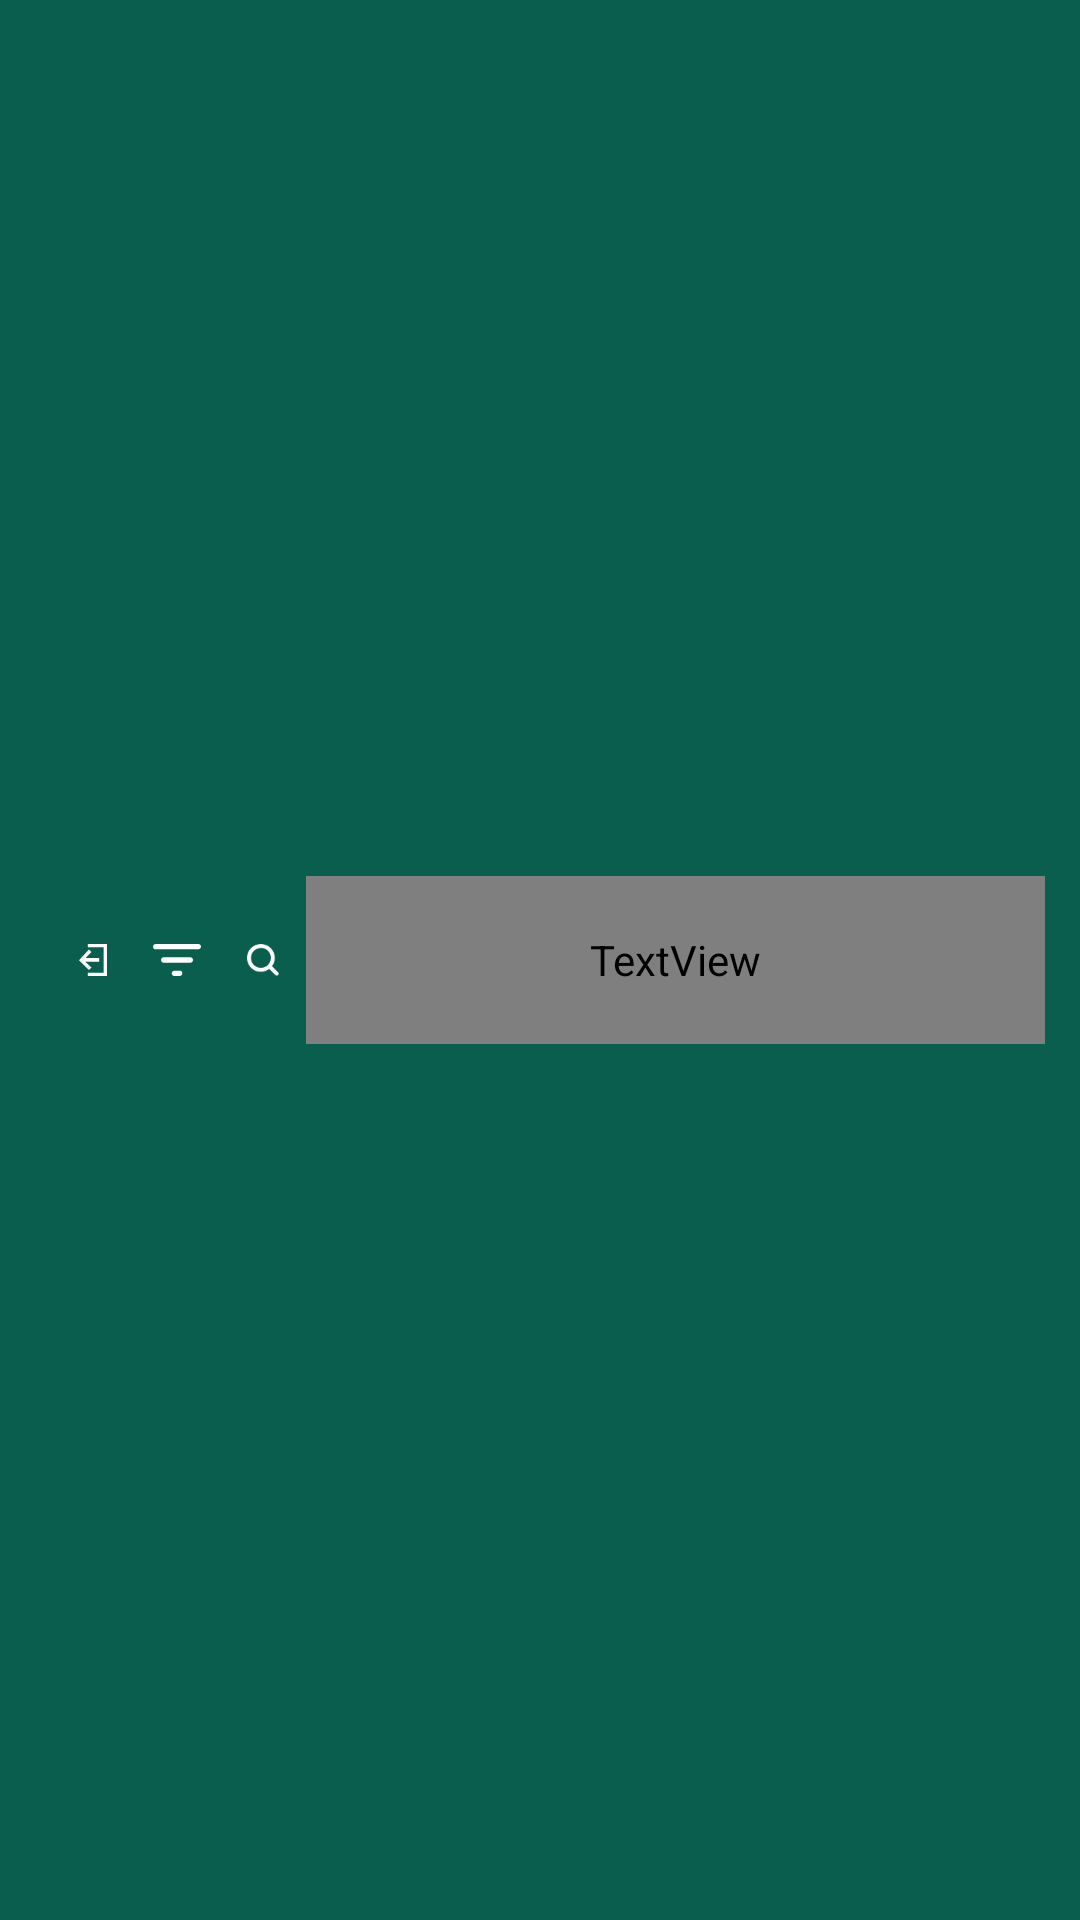

Where to tap for icons on this 1080 × 1920 app screen, as (x=x, y=y):
filter: (x=177, y=960)
search: (x=263, y=960)
